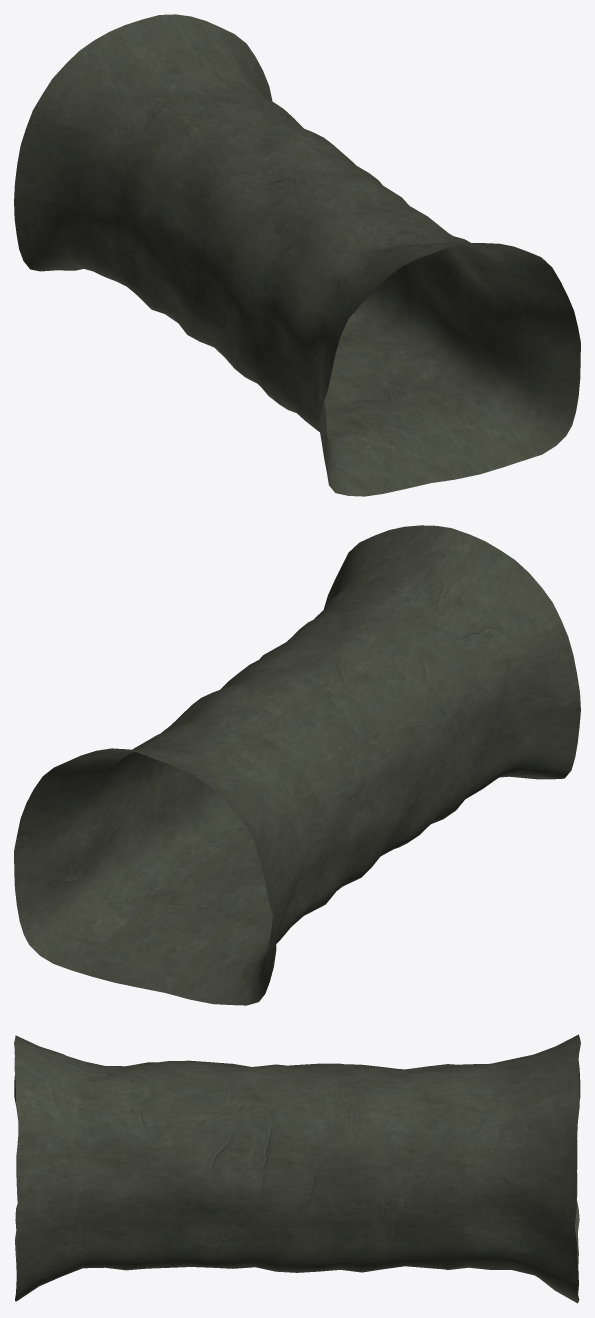
Rendered from tunnel1_mesh.fbx.
The picture shows the model from 3 angles, top to bottom: view 1: azimuth 30°, elevation 25°; view 2: azimuth 150°, elevation 25°; view 3: azimuth 270°, elevation 25°; orthographic projection. The views are drawn at different scales.
Parts seen in each view (by area): view 1: lowP_tunnel; view 2: lowP_tunnel; view 3: lowP_tunnel.
Part boxes in pixels (left/top/right/bottom): lowP_tunnel: left=14, top=14, right=580, bottom=496; lowP_tunnel: left=14, top=525, right=580, bottom=1005; lowP_tunnel: left=14, top=1034, right=580, bottom=1303.
Size of the model in its own units: 1192 by 1028 by 2433.
1 material, 1 textured.
